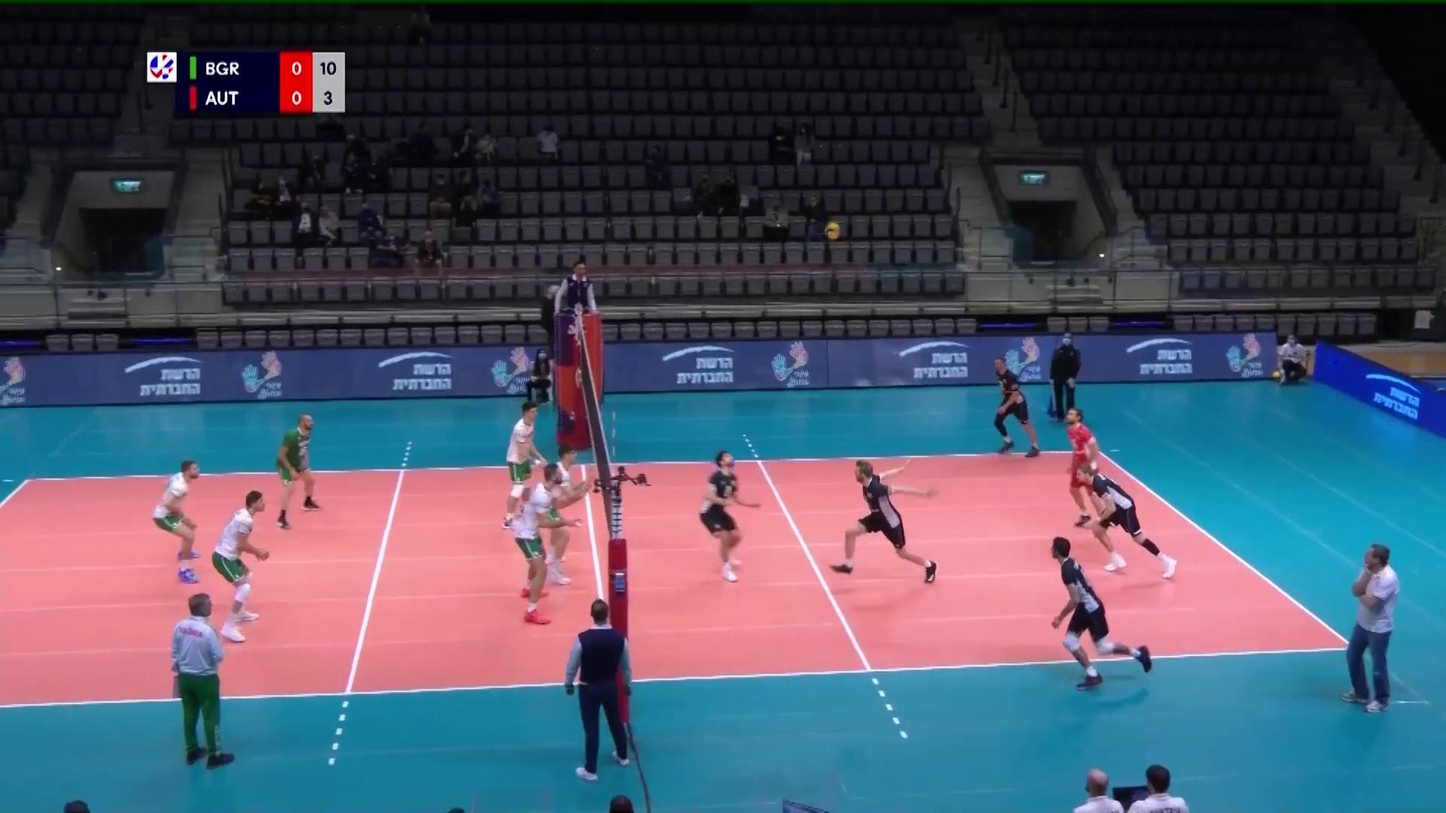ball: (823, 222, 842, 241)
